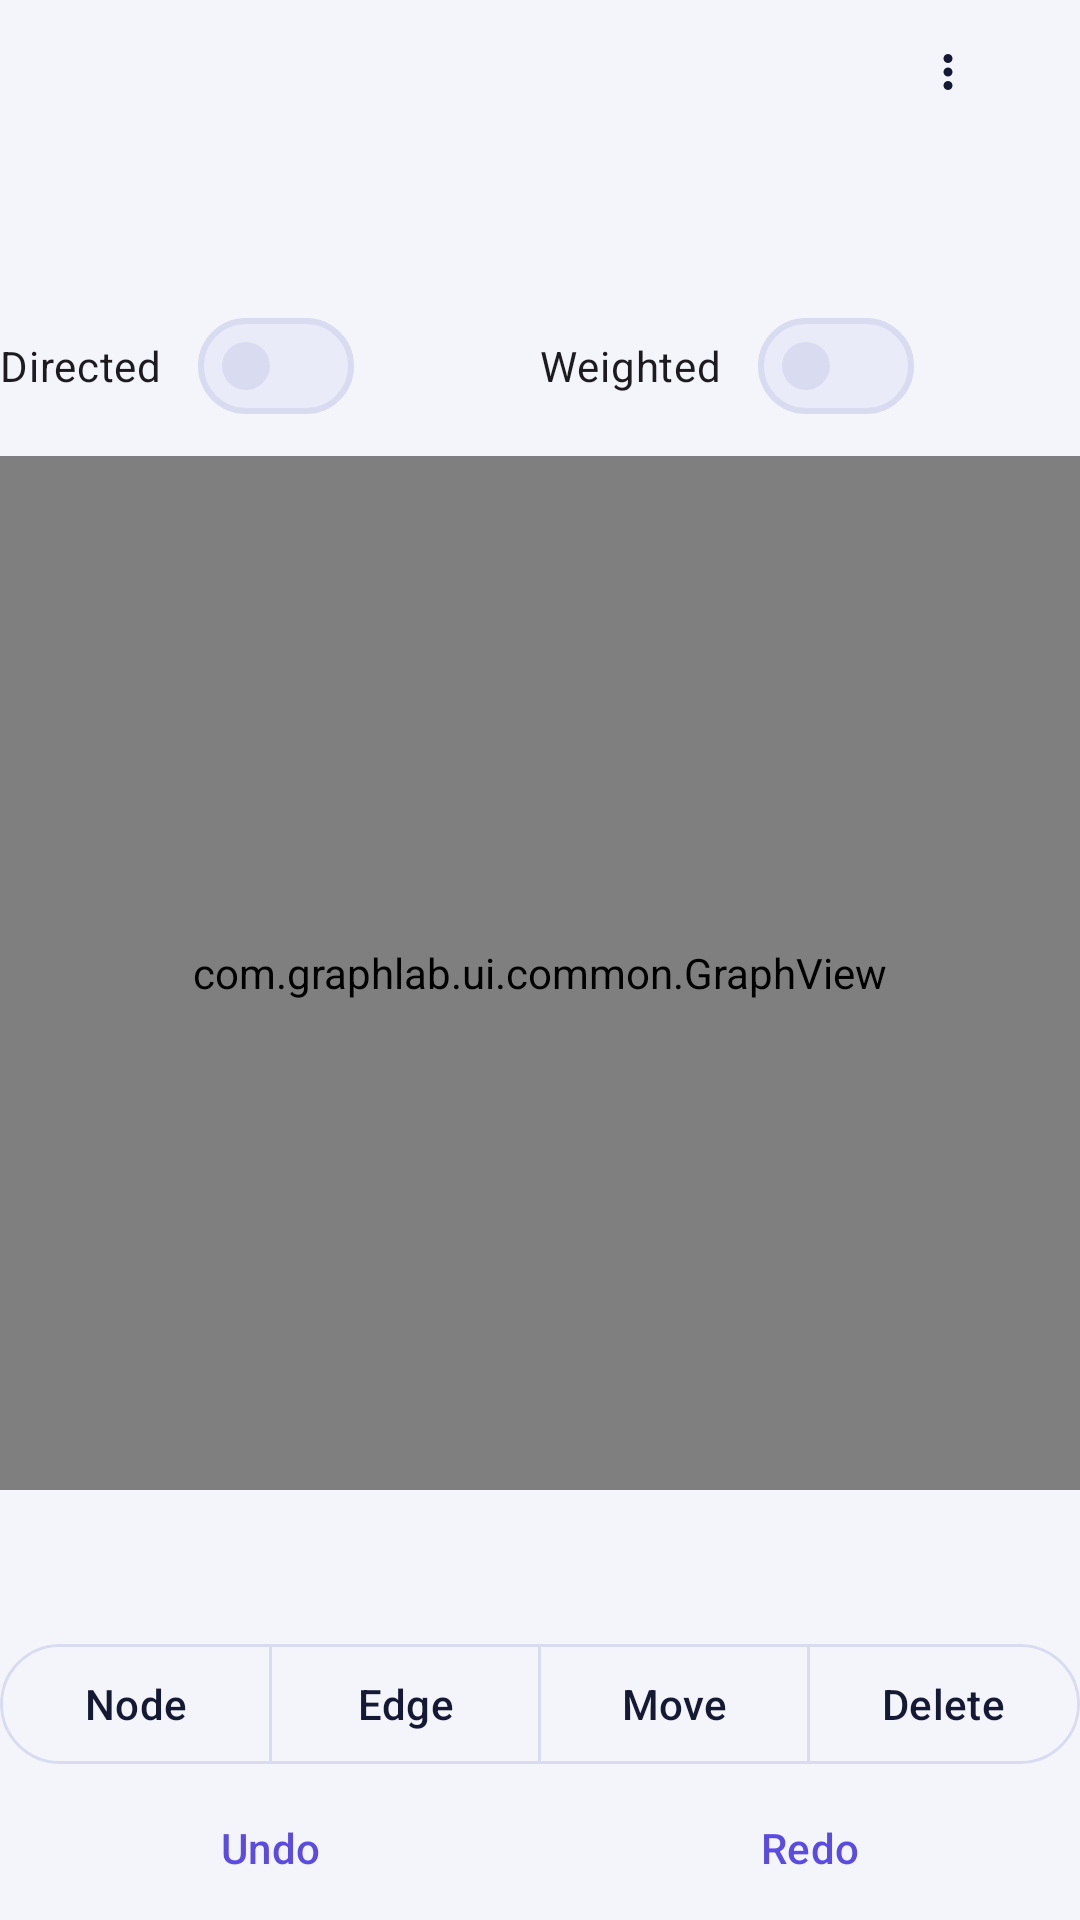

Where icons sit on this 1080px×1920px app screen, as [x1=x1, y1=y1, x2=x2, y2=y2]:
More: [x1=943, y1=54, x2=953, y2=90]
